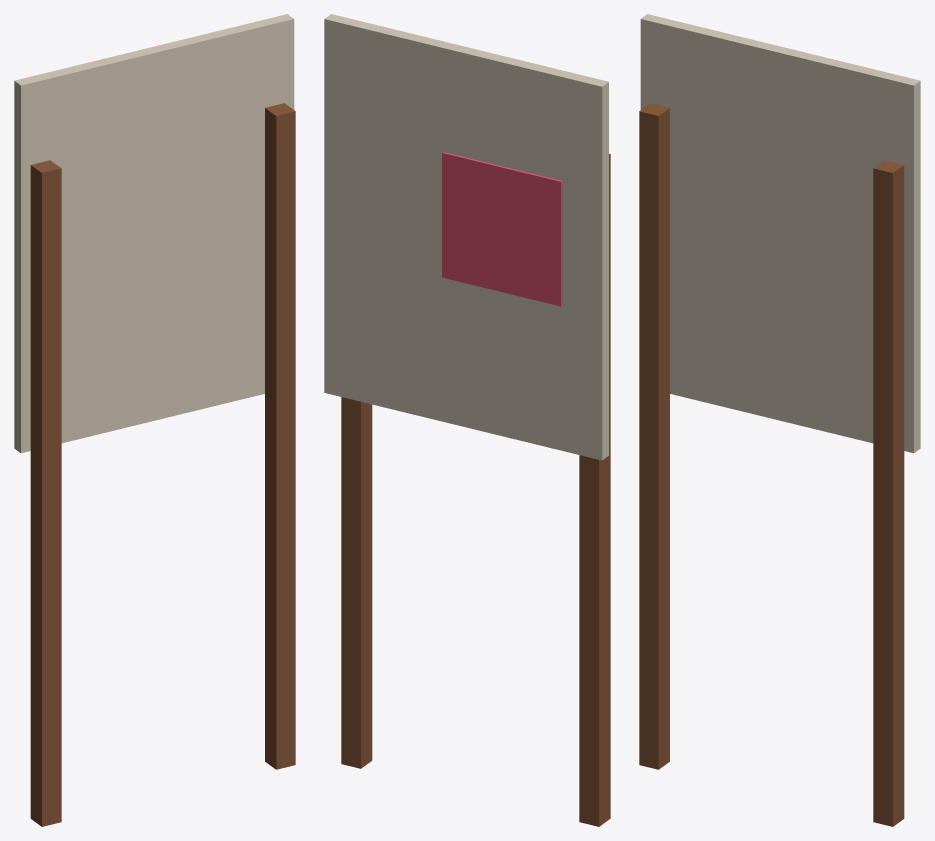
File: easel_1.glb
3 views of the same model, side by side, from view 1: azimuth 30°, elevation 25°; view 2: azimuth 150°, elevation 25°; view 3: azimuth 330°, elevation 25° (orthographic).
Parts seen in each view (by area): view 1: Box3, Box2, Box1; view 2: Box3, Box4, Box2, Box1; view 3: Box3, Box1, Box2.
Boxes of the visible parts, x1,y1,x2,y2 form: Box3: (14, 14, 294, 453); Box2: (30, 160, 61, 826); Box1: (265, 103, 295, 769); Box3: (324, 14, 608, 460); Box4: (442, 152, 562, 306); Box2: (579, 153, 610, 826); Box1: (341, 397, 372, 768); Box3: (640, 14, 920, 453); Box1: (873, 160, 904, 826); Box2: (639, 103, 669, 769).
Size of the model in its own units: 0.7 by 1.8 by 0.086.
